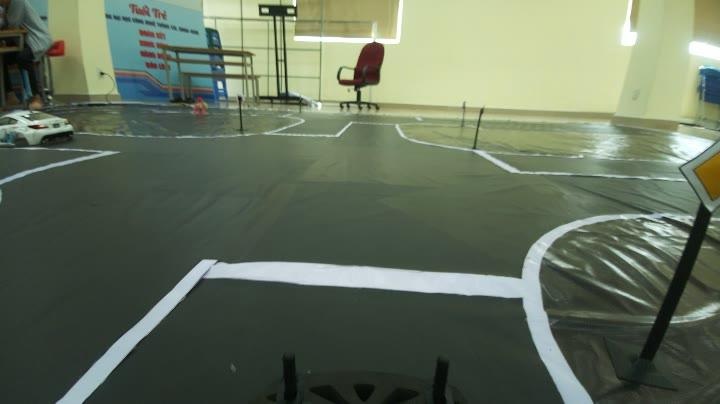priority: (666, 138, 720, 210)
